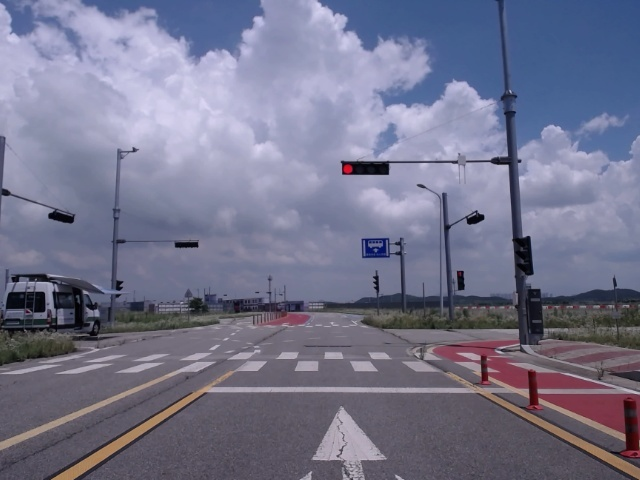red_4: (342, 163, 389, 175)
